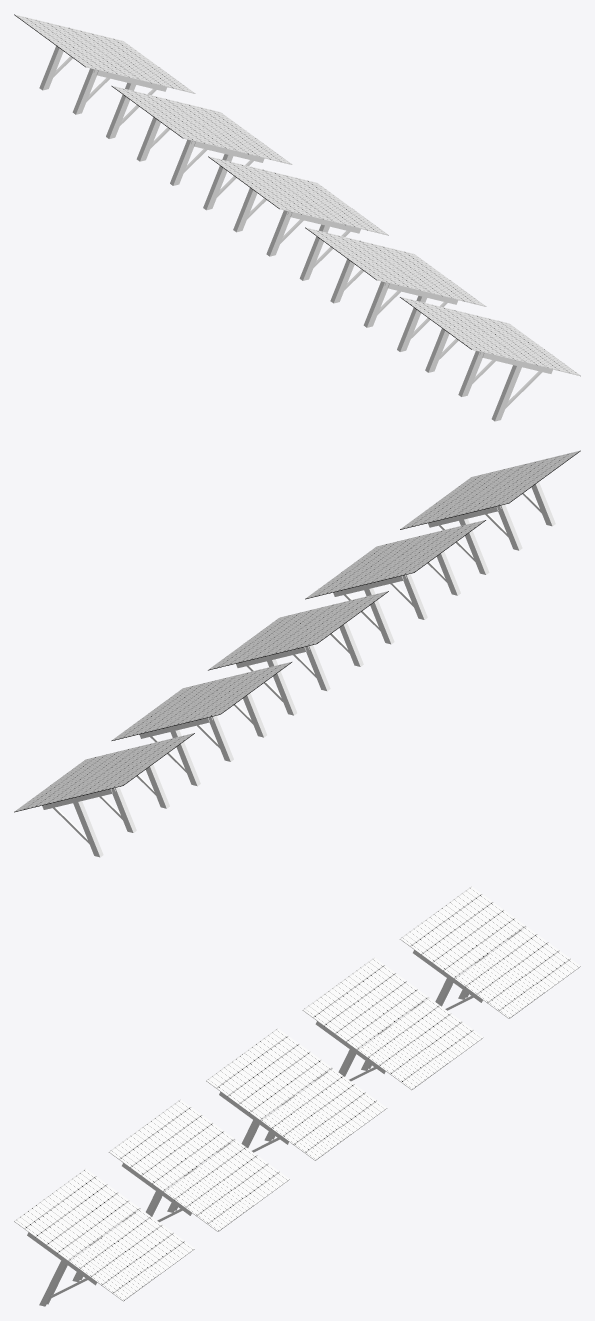
Rendered from solar.gltf.
3 renders of one model, top to bottom at view 1: azimuth 30°, elevation 25°; view 2: azimuth 150°, elevation 25°; view 3: azimuth 330°, elevation 25°, orthographic.
Parts seen in each view (by area): view 1: pipe_supports_Куб, pipe_supports.002_Куб.002, pipe_supports.003_Куб.003, pipe_supports.004_Куб.004, pipe_supports.001_Куб.001, Plane.018_Plane.019, Plane.006_Plane.007, Plane.002, Plane.010_Plane.011, Plane.014_Plane.015, Plane.013_Plane.014, Plane.009_Plane.010 (+13 smaller); view 2: pipe_supports.004_Куб.004, pipe_supports.001_Куб.001, pipe_supports.003_Куб.003, pipe_supports_Куб, pipe_supports.002_Куб.002, Plane.007_Plane.008, Plane.003, Plane.011_Plane.012, Plane.015_Plane.016, Plane.019_Plane.020, Plane.012_Plane.013, Plane.020_Plane.021 (+13 smaller); view 3: Plane.013_Plane.014, Plane.001, Plane.009_Plane.010, Plane.005_Plane.006, Plane.017_Plane.018, Plane.018_Plane.019, Plane.002, Plane.006_Plane.007, Plane.010_Plane.011, Plane.014_Plane.015, Plane.015_Plane.016, Plane.019_Plane.020 (+13 smaller).
Part boxes in pixels (left/top/right/bottom): pipe_supports_Куб: left=425, top=328, right=552, bottom=421; pipe_supports.002_Куб.002: left=233, top=188, right=360, bottom=280; pipe_supports.003_Куб.003: left=136, top=117, right=264, bottom=210; pipe_supports.004_Куб.004: left=39, top=46, right=167, bottom=138; pipe_supports.001_Куб.001: left=330, top=259, right=458, bottom=351; Plane.018_Plane.019: left=50, top=40, right=140, bottom=80; Plane.006_Plane.007: left=341, top=254, right=431, bottom=293; Plane.002: left=435, top=323, right=525, bottom=362; Plane.010_Plane.011: left=244, top=182, right=333, bottom=222; Plane.014_Plane.015: left=147, top=112, right=237, bottom=151; Plane.013_Plane.014: left=202, top=125, right=292, bottom=164; Plane.009_Plane.010: left=299, top=196, right=388, bottom=235; pipe_supports.004_Куб.004: left=42, top=764, right=169, bottom=857; pipe_supports.001_Куб.001: left=333, top=551, right=460, bottom=644; pipe_supports.003_Куб.003: left=139, top=693, right=266, bottom=786; pipe_supports_Куб: left=428, top=482, right=555, bottom=574; pipe_supports.002_Куб.002: left=236, top=622, right=363, bottom=715; Plane.007_Plane.008: left=360, top=546, right=449, bottom=585; Plane.003: left=454, top=477, right=544, bottom=516; Plane.011_Plane.012: left=263, top=617, right=352, bottom=656; Plane.015_Plane.016: left=166, top=688, right=256, bottom=727; Plane.019_Plane.020: left=69, top=759, right=158, bottom=798; Plane.012_Plane.013: left=208, top=631, right=297, bottom=670; Plane.020_Plane.021: left=14, top=772, right=103, bottom=812; Plane.013_Plane.014: left=357, top=1024, right=447, bottom=1089; Plane.001: left=69, top=1235, right=158, bottom=1301; Plane.009_Plane.010: left=261, top=1095, right=350, bottom=1160; Plane.005_Plane.006: left=164, top=1166, right=253, bottom=1231; Plane.017_Plane.018: left=455, top=953, right=544, bottom=1018; Plane.018_Plane.019: left=400, top=912, right=489, bottom=978; Plane.002: left=14, top=1195, right=103, bottom=1261; Plane.006_Plane.007: left=109, top=1125, right=198, bottom=1191; Plane.010_Plane.011: left=206, top=1054, right=296, bottom=1120; Plane.014_Plane.015: left=302, top=984, right=392, bottom=1049; Plane.015_Plane.016: left=339, top=957, right=428, bottom=1023; Plane.019_Plane.020: left=436, top=886, right=525, bottom=952.
Bounding box in the file's own units: 3.27 × 2.25 × 23.68.
3 materials, 1 textured.
